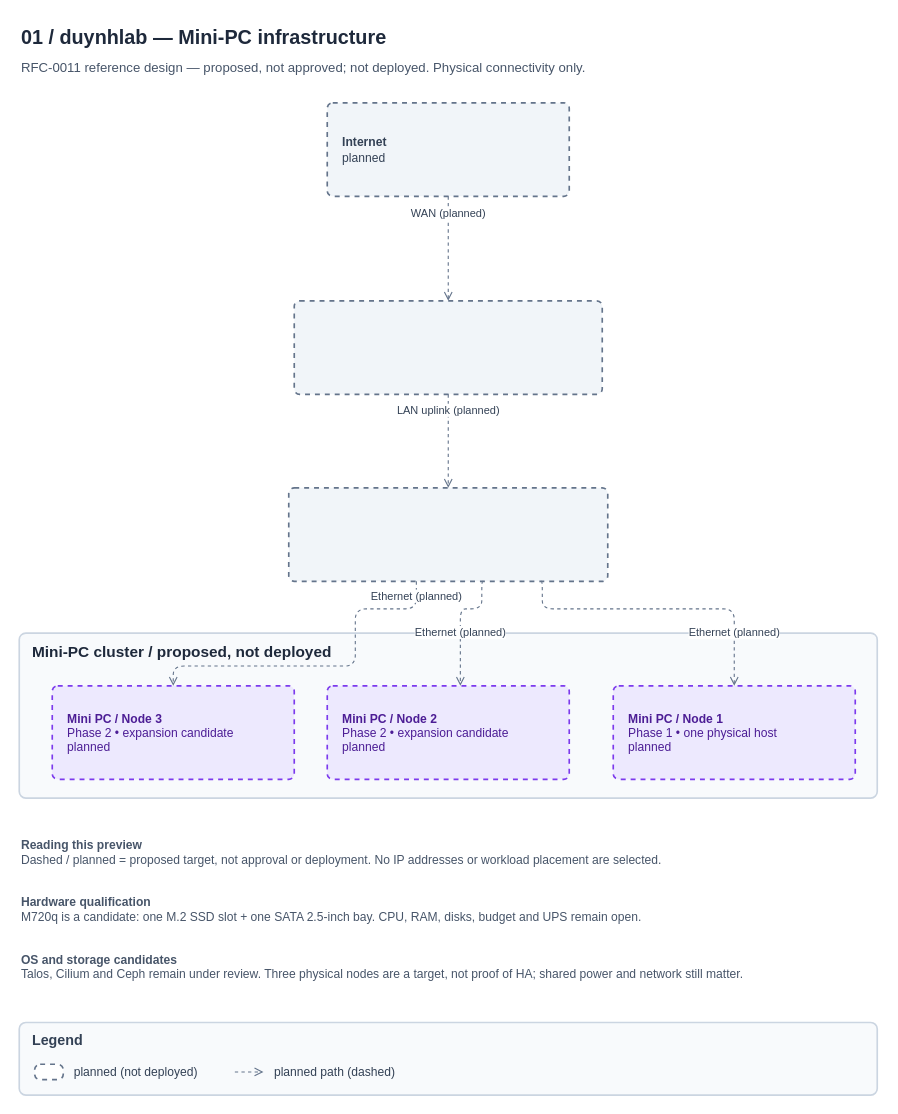
This 898x1114 diagram has some shape labels left out. Each missing label, with the centre of its shape:
"Home router Model and LAN plan: undecided planned" goes at (448,347).
"Managed switch Ports / speed / VLANs: undecided planned" goes at (447,534).
